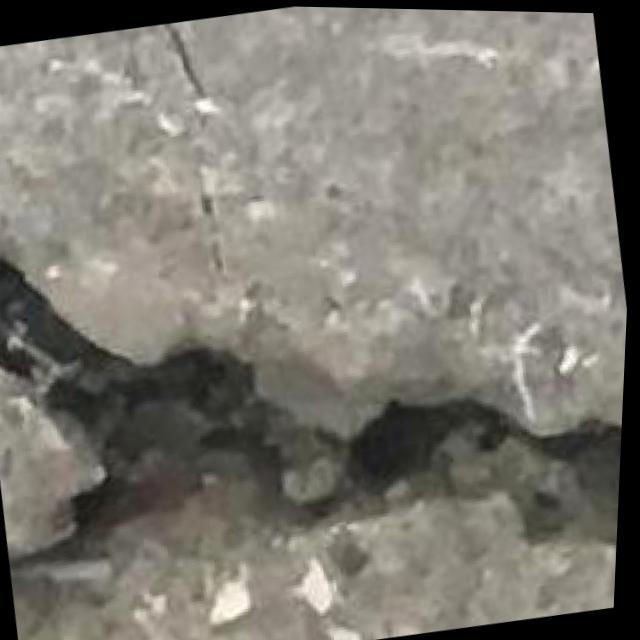Crack: (0, 135, 635, 640)
